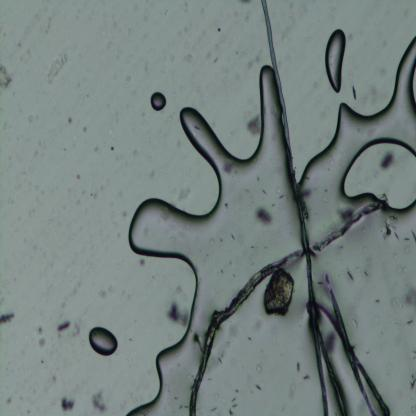Air bubble: (126, 67, 282, 265), (303, 40, 416, 181), (125, 261, 200, 415), (339, 132, 416, 216), (325, 28, 345, 90), (89, 326, 119, 356), (149, 91, 168, 110)
Background material: (262, 268, 296, 317), (377, 210, 416, 247), (45, 49, 70, 86), (164, 300, 191, 330), (288, 357, 310, 381), (0, 57, 15, 91), (227, 383, 242, 414), (247, 114, 264, 139), (256, 204, 274, 227), (91, 388, 109, 411), (380, 150, 397, 174), (55, 315, 72, 338), (60, 392, 76, 414), (37, 316, 47, 349), (337, 205, 354, 221), (0, 309, 15, 327), (407, 288, 416, 306), (351, 79, 358, 101), (110, 140, 116, 150)
Cellulose filter fibre: (188, 202, 381, 414)
Microfibre: (261, 1, 330, 415), (322, 278, 394, 416)
